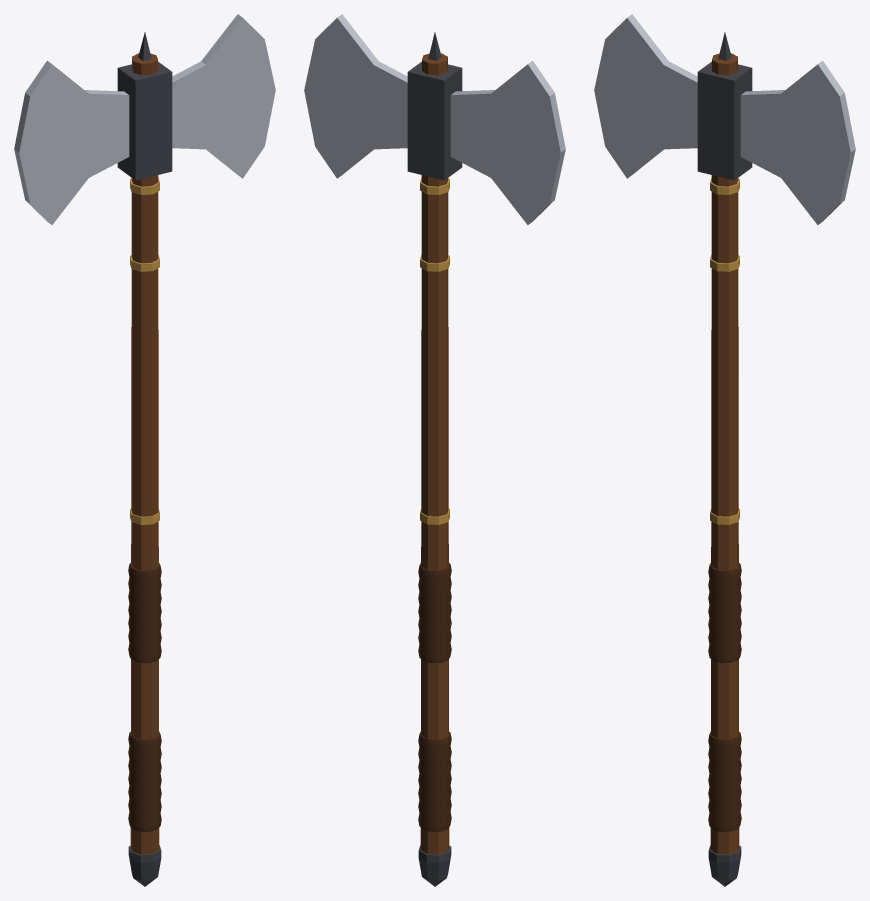
File: greataxe.glb
3 renders of one model, left to right at view 1: azimuth 30°, elevation 25°; view 2: azimuth 150°, elevation 25°; view 3: azimuth 330°, elevation 25°, orthographic.
Parts seen in each view (by area): view 1: Greataxe_Head, Greataxe_Haft, Greataxe_Fittings, Greataxe_Grip, Greataxe_OffGrip, Greataxe_Bands; view 2: Greataxe_Head, Greataxe_Haft, Greataxe_Fittings, Greataxe_Grip, Greataxe_OffGrip, Greataxe_Bands; view 3: Greataxe_Head, Greataxe_Haft, Greataxe_Fittings, Greataxe_Grip, Greataxe_OffGrip, Greataxe_Bands.
Boxes of the visible parts, <box> form: Greataxe_Head: <box>14,14,275,224</box>; Greataxe_Haft: <box>130,53,159,854</box>; Greataxe_Fittings: <box>117,32,172,886</box>; Greataxe_Grip: <box>128,563,161,663</box>; Greataxe_OffGrip: <box>128,731,161,831</box>; Greataxe_Bands: <box>130,178,159,524</box>; Greataxe_Head: <box>304,14,565,224</box>; Greataxe_Haft: <box>420,53,449,854</box>; Greataxe_Fittings: <box>407,32,462,886</box>; Greataxe_Grip: <box>418,563,451,663</box>; Greataxe_OffGrip: <box>418,731,451,831</box>; Greataxe_Bands: <box>420,178,449,524</box>; Greataxe_Head: <box>594,14,855,224</box>; Greataxe_Haft: <box>710,53,739,854</box>; Greataxe_Fittings: <box>697,32,752,886</box>; Greataxe_Grip: <box>708,563,741,663</box>; Greataxe_OffGrip: <box>708,731,741,831</box>; Greataxe_Bands: <box>710,178,739,524</box>.
Bounding box in the file's own units: 0.35 × 1.12 × 0.042.
